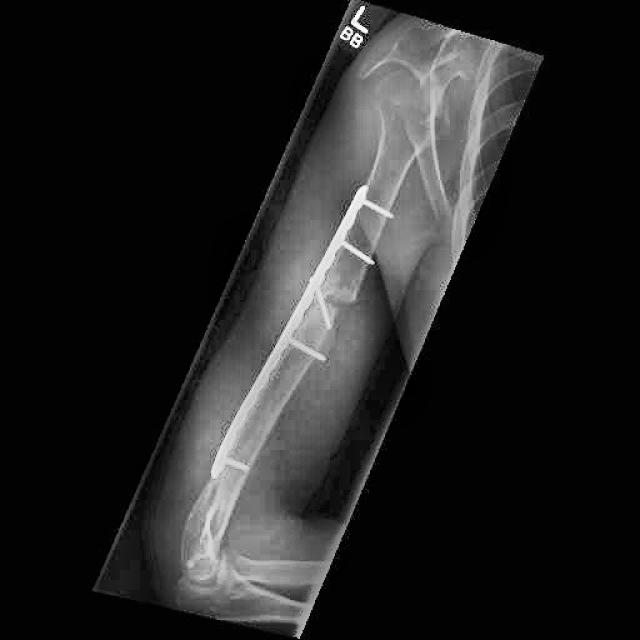humerus: (300, 275, 368, 344)
